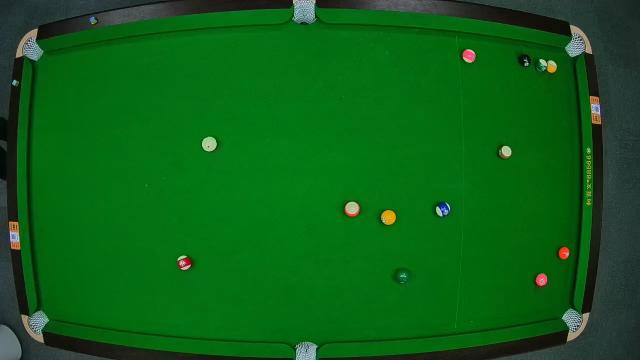bag1: (22, 38, 44, 60)
bag2: (291, 0, 317, 26)
bag3: (566, 29, 588, 57)
bag4: (29, 310, 49, 334)
bag5: (294, 340, 318, 360)
bag6: (563, 308, 585, 332)
ball0: (202, 136, 218, 152)
ball1: (380, 210, 396, 226)
ball10: (435, 202, 451, 218)
ball11: (177, 255, 191, 269)
ball12: (462, 48, 474, 64)
ball13: (344, 200, 361, 218)
ball14: (536, 59, 548, 73)
ball15: (498, 144, 512, 160)
ball4: (535, 273, 549, 287)
ball5: (558, 246, 570, 262)
ball6: (395, 270, 411, 283)
ball8: (518, 52, 532, 68)
ball9: (544, 59, 558, 73)
